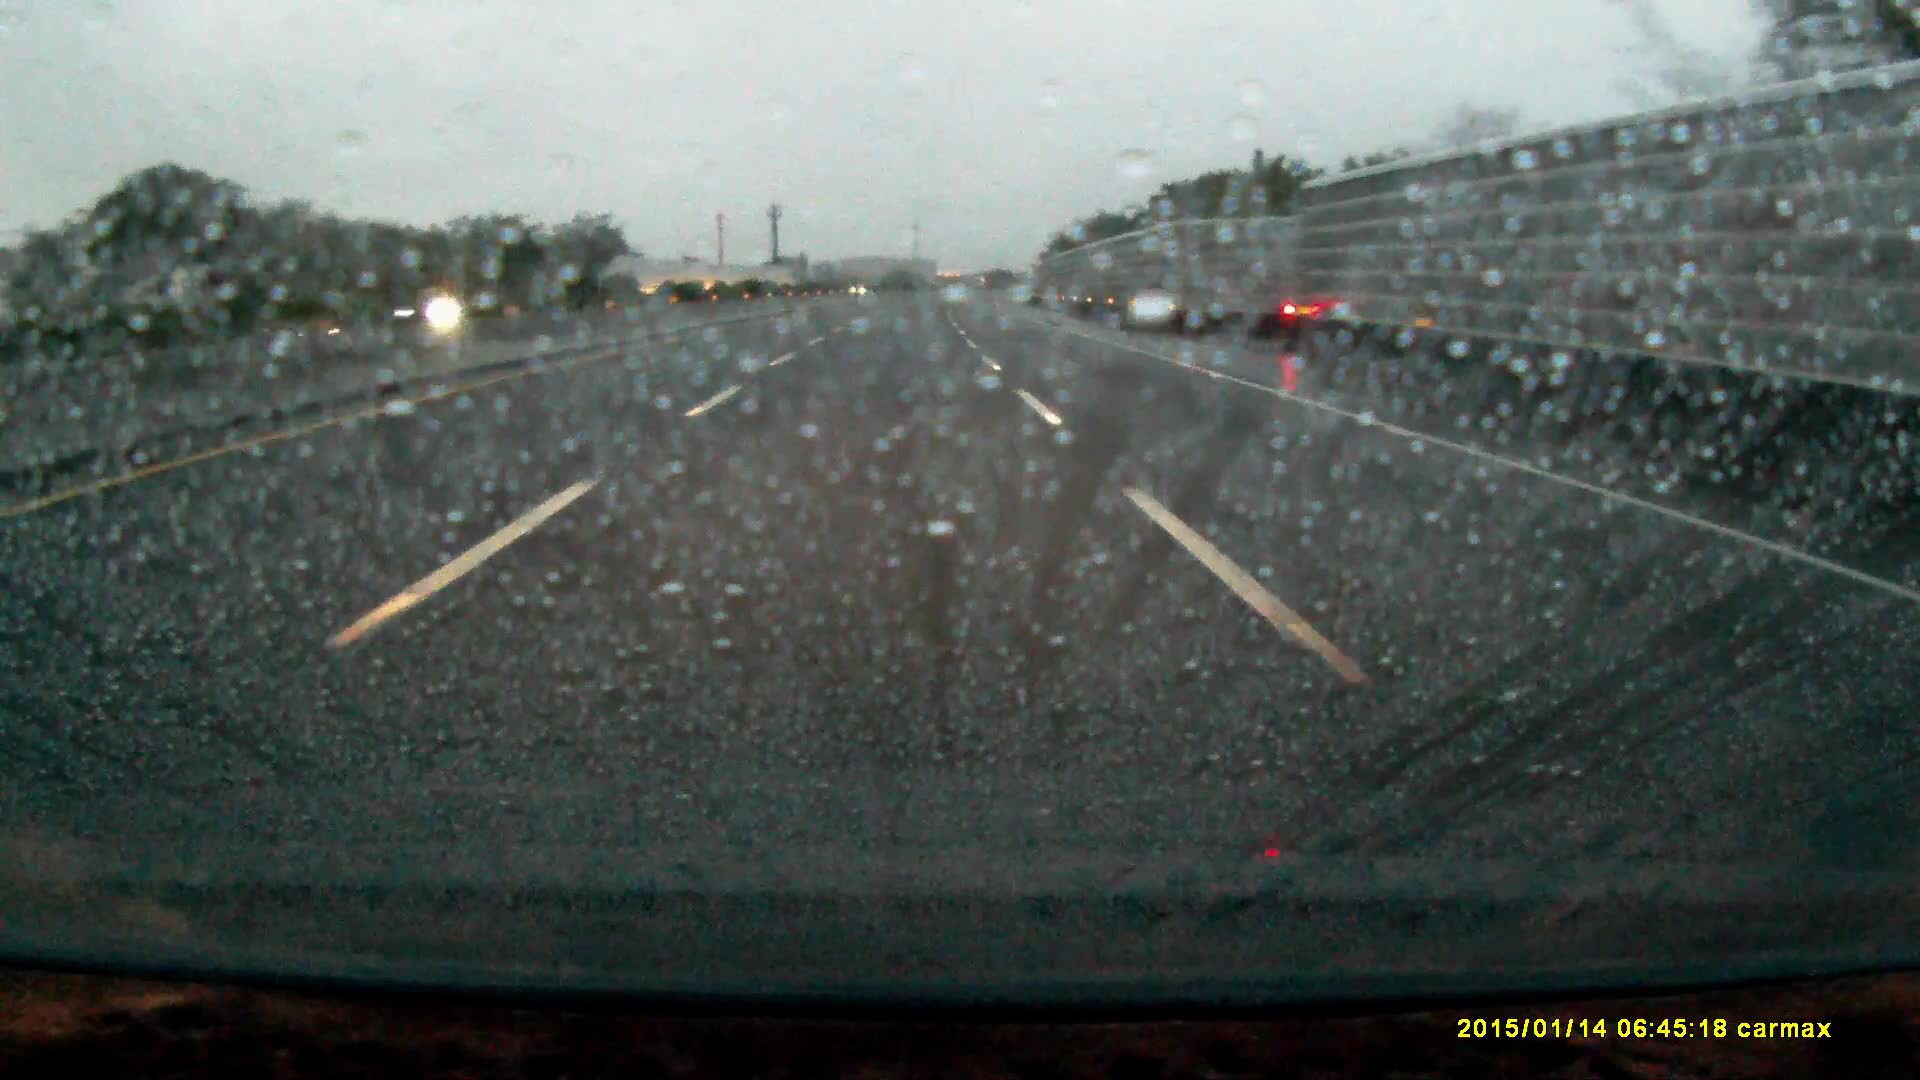vehicle: (381, 290, 463, 328)
